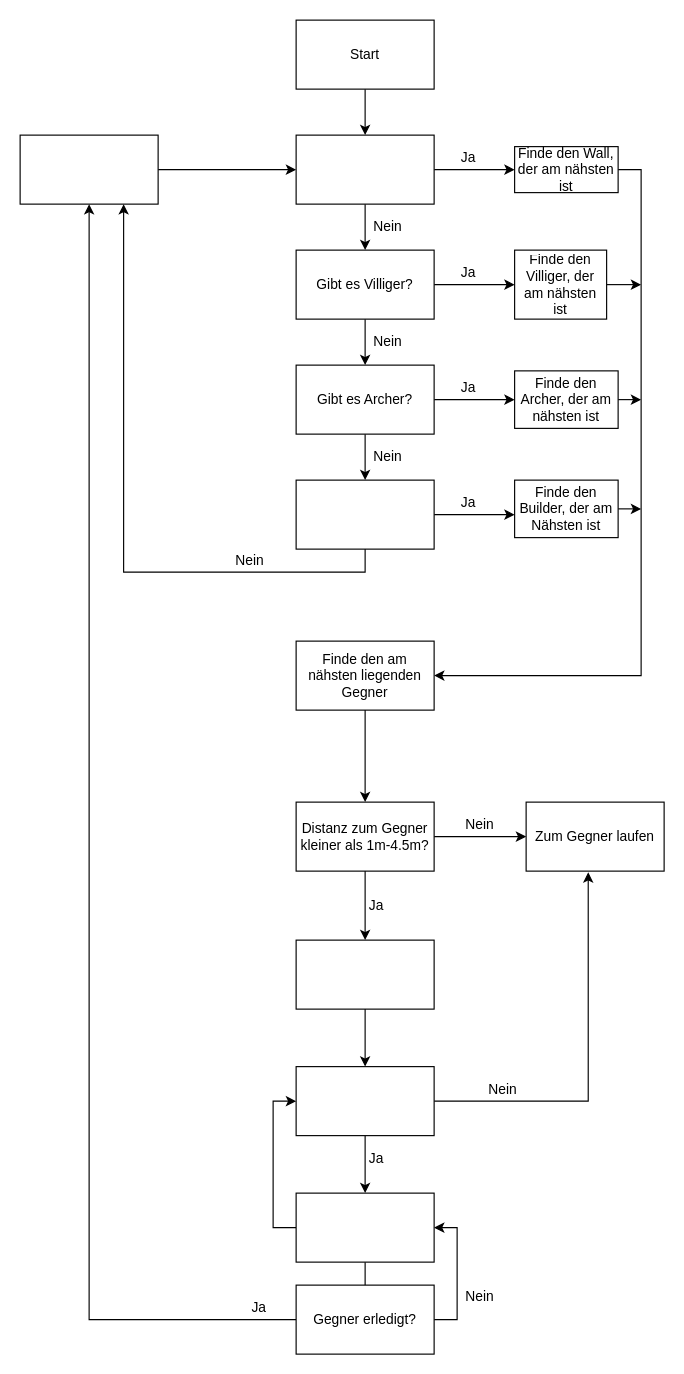
Image size: 684x1374. Some labels were removed from this diagram. Here are the shapes that lost their labels. From the top down, the centre of each, then its label:
At pixel 88 169: "Update".
At pixel 364 169: "Gibt es Wälle?".
At pixel 364 514: "Gibt es Builder?".
At pixel 364 974: "Stehen bleiben".
At pixel 364 1100: "Gegner noch in Reichweite?".
At pixel 364 1227: "Auf den Gegner schießen".
